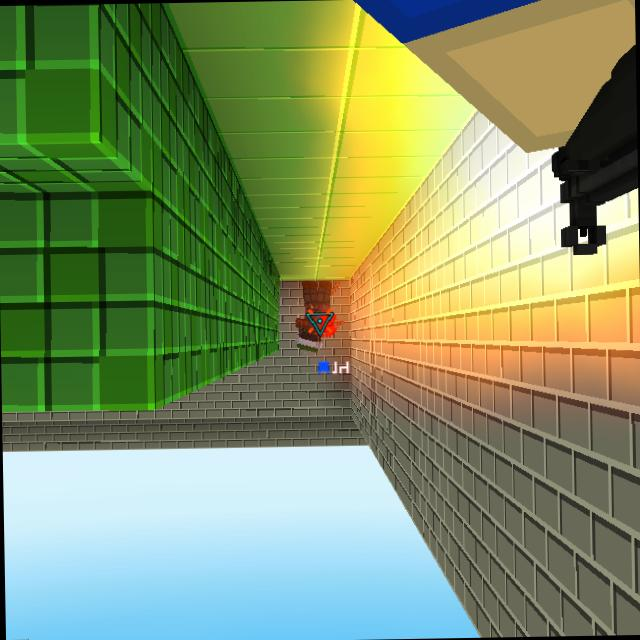enemy: (292, 279, 338, 356)
